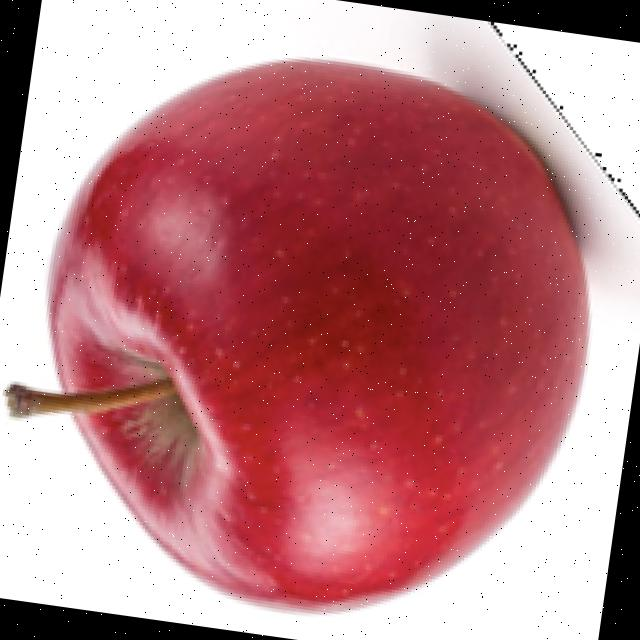apple: (0, 15, 640, 620)
